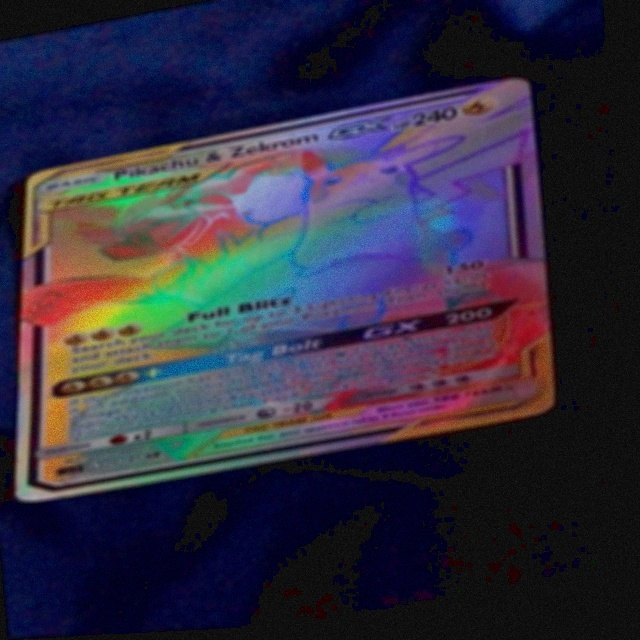card: (15, 81, 567, 503)
